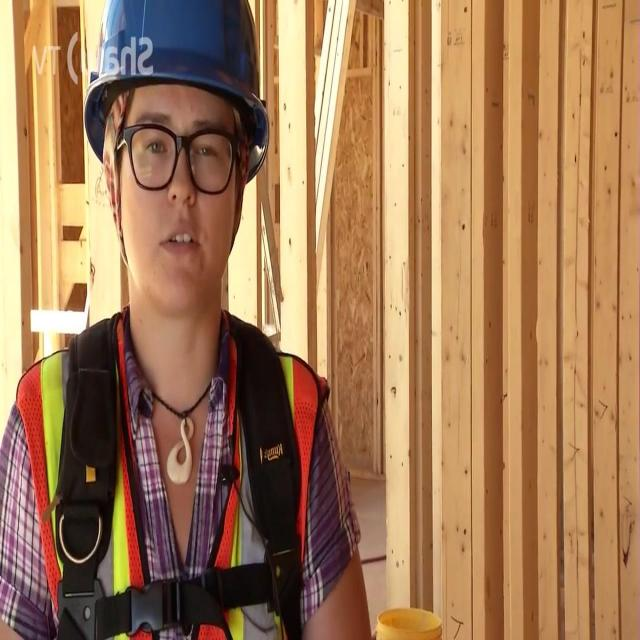Reflective-Jacket: (2, 308, 385, 638)
Safety-Helmet: (68, 1, 282, 175), (118, 613, 162, 640), (189, 617, 233, 640)
